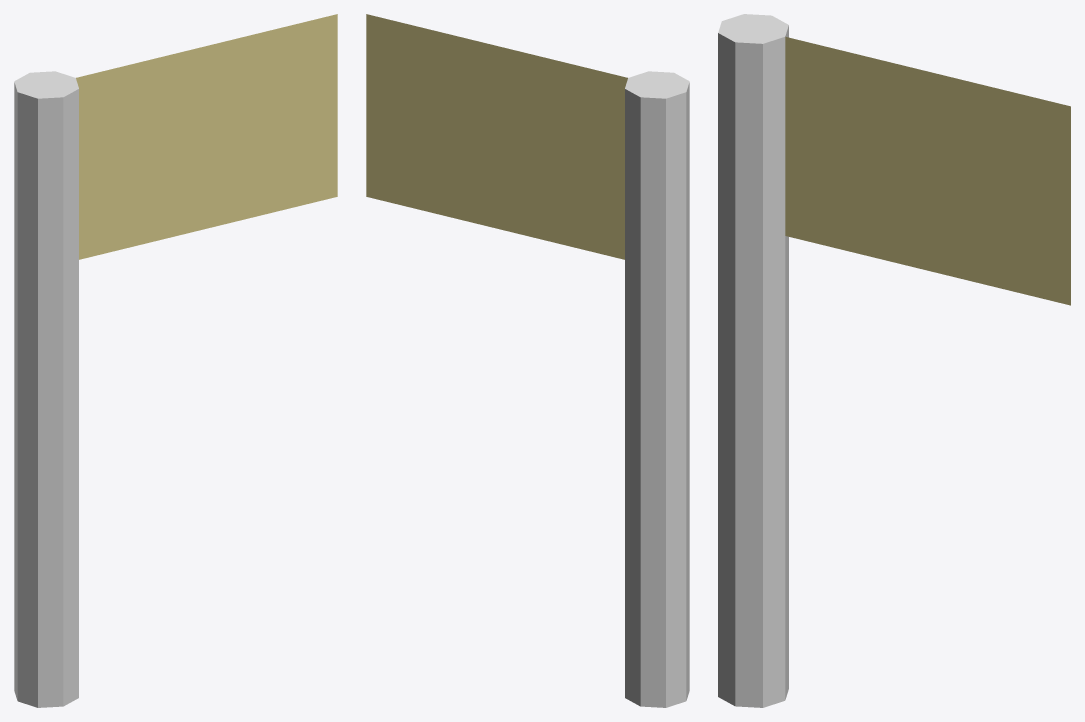
The model's file is FLAG.fbx.
3 views of the same model, side by side, from view 1: azimuth 30°, elevation 25°; view 2: azimuth 150°, elevation 25°; view 3: azimuth 330°, elevation 25° (orthographic). The views are drawn at different scales.
Visible parts, largest first — view 1: Cube; view 2: Cube; view 3: Cube.
Part boxes in pixels (box(x1,y1,x2,y2)): Cube: box(14, 14, 337, 707); Cube: box(366, 14, 689, 707); Cube: box(718, 14, 1070, 707).
Size of the model in its own units: 110 by 200 by 20.
